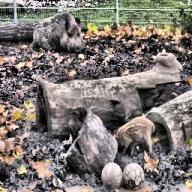boar: (30, 12, 86, 54)
